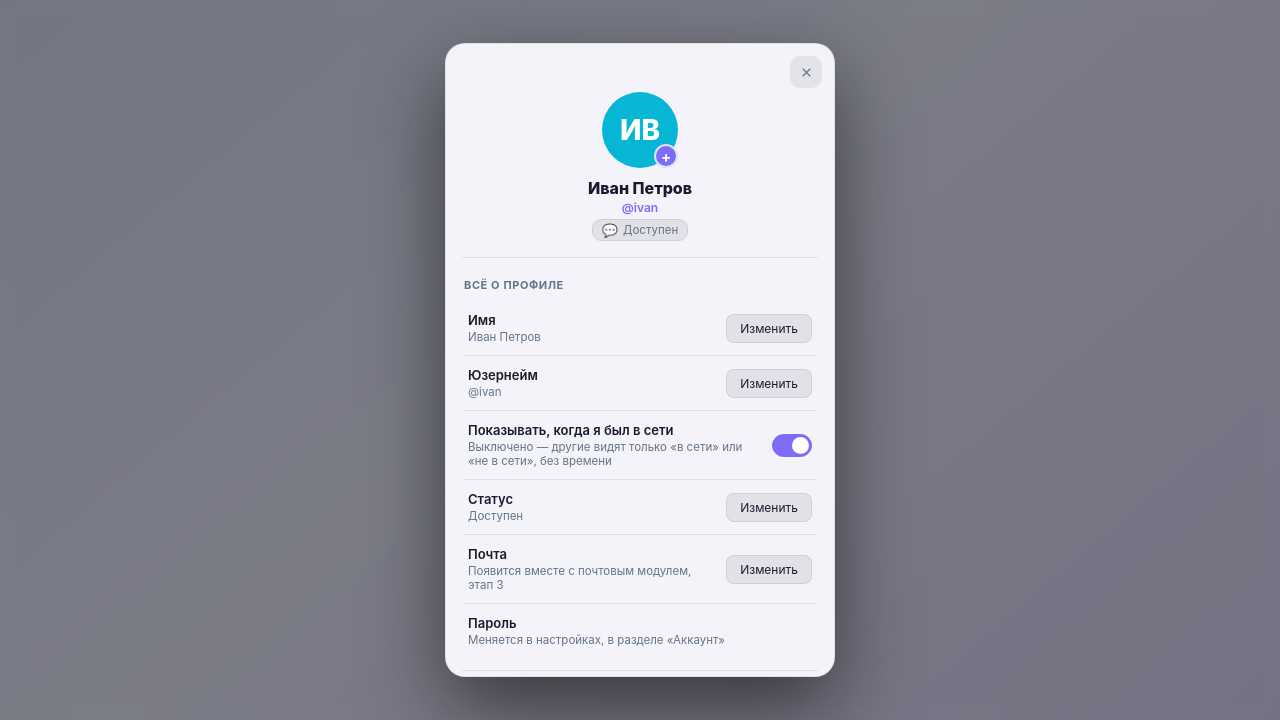
it: the username › restores the old handle when the new one is taken
Click the button with class "sub-btn" in the row of "Юзернейм" at (769, 383), box top-left (726, 369), bottom-right (812, 398)
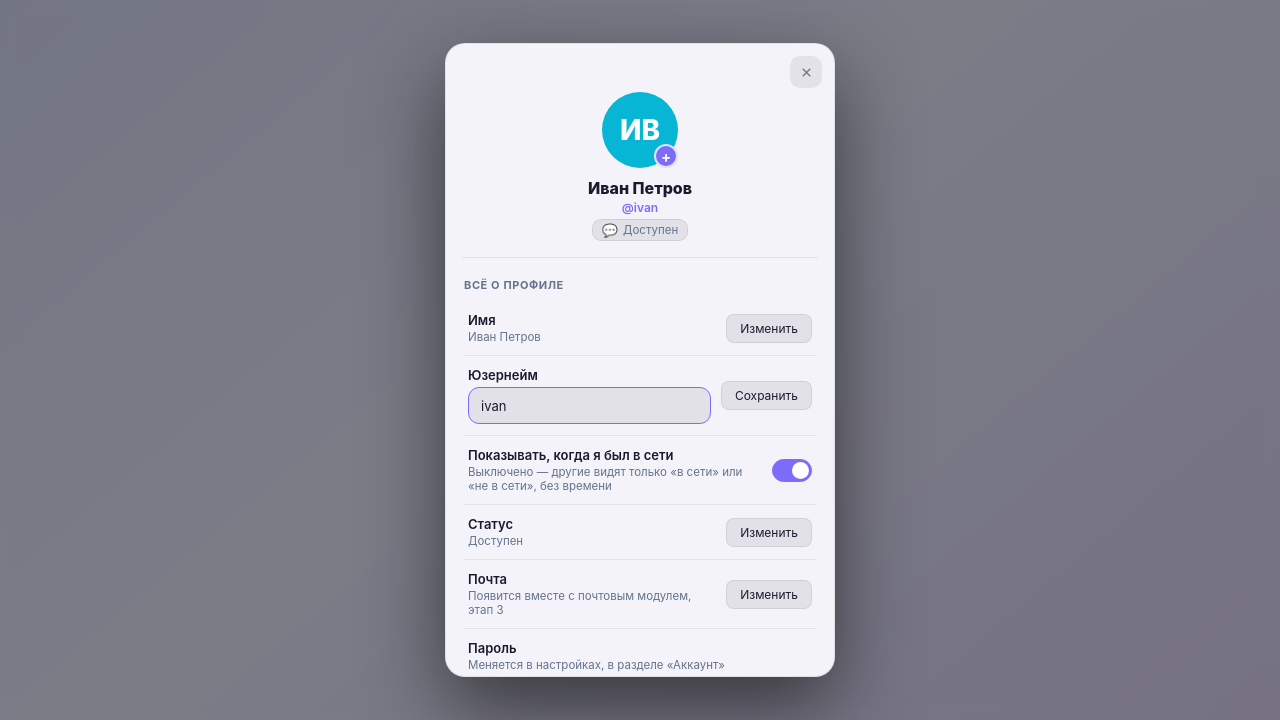
Replace the text in the field showing "ivan" with "taken" at (589, 406), box top-left (468, 387), bottom-right (711, 424)
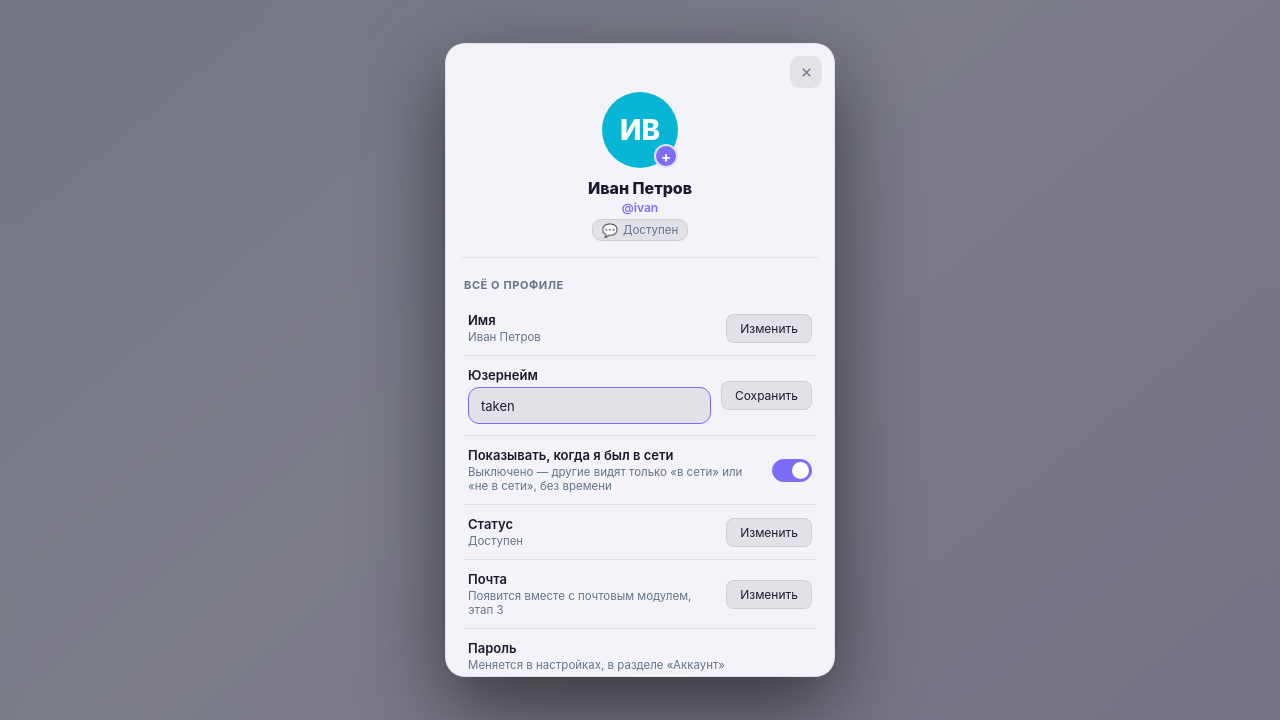
Click the button with class "sub-btn" showing "Сохранить" at (766, 396), box top-left (721, 381), bottom-right (812, 410)
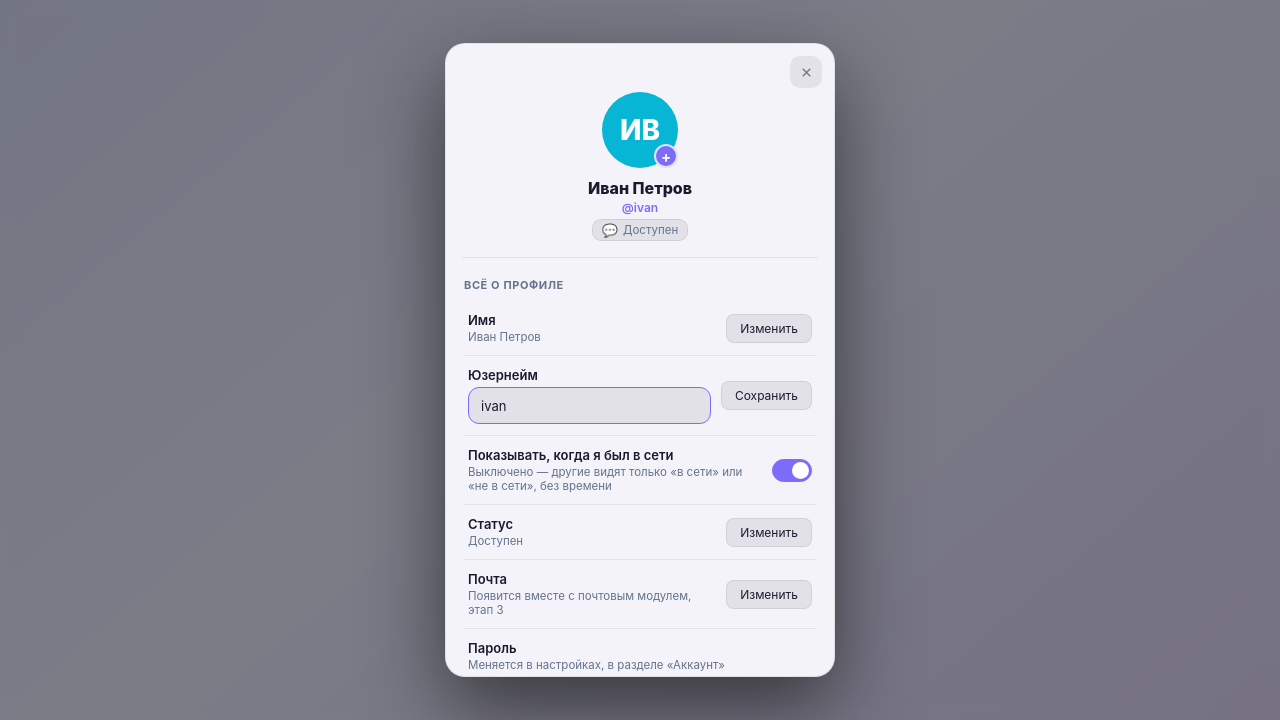
Expected: the field showing "ivan" is shown, top-left (468, 387), bottom-right (711, 424)
